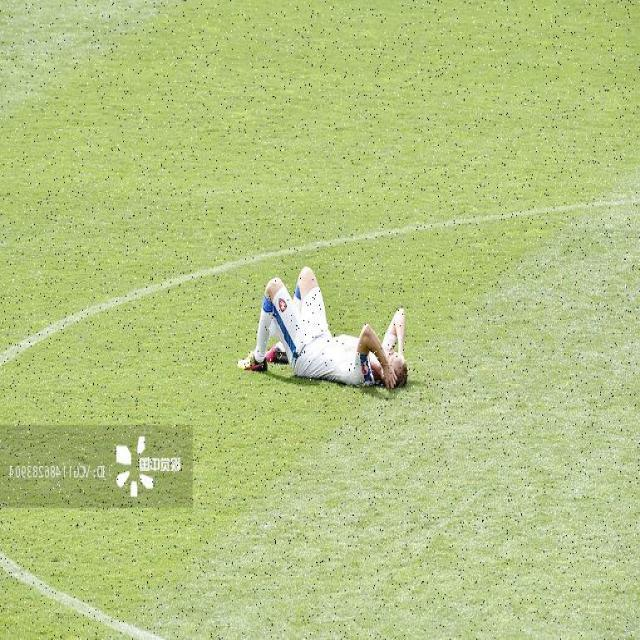fall: (243, 266, 411, 394)
